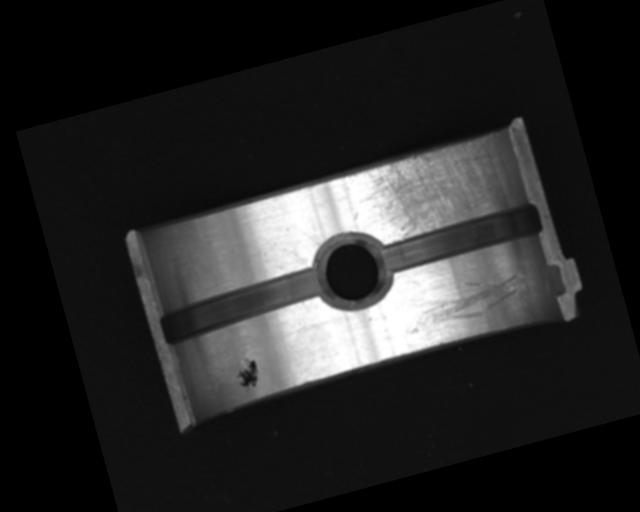blot: (231, 355, 263, 393)
gap: (151, 264, 331, 349), (376, 201, 545, 277)
hole: (308, 228, 397, 312)
nick: (398, 267, 527, 339), (291, 217, 323, 254)
scratch: (347, 130, 519, 249)
